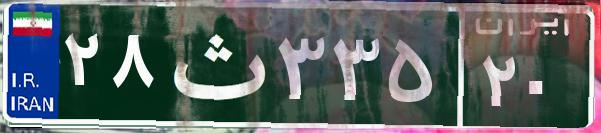0: (525, 38, 570, 115)
2: (57, 26, 110, 107), (475, 38, 525, 113)
3: (273, 28, 330, 110), (330, 28, 385, 110)
5: (385, 28, 445, 110)
8: (110, 28, 158, 105)
ث: (158, 15, 273, 115)
